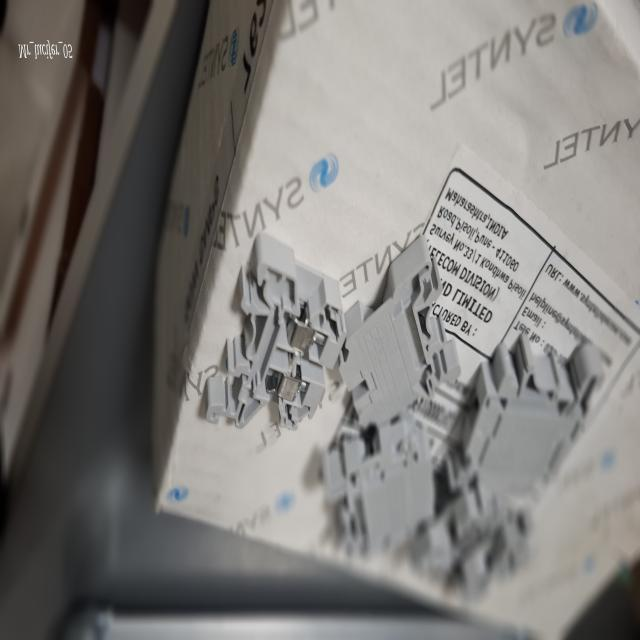Inverted: (338, 222, 458, 442)
Pass: (192, 216, 356, 478)
